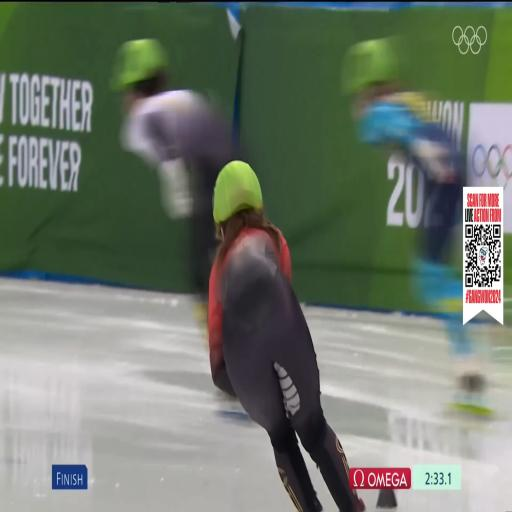Skater: (343, 39, 490, 415), (209, 161, 364, 511), (112, 39, 237, 322)
